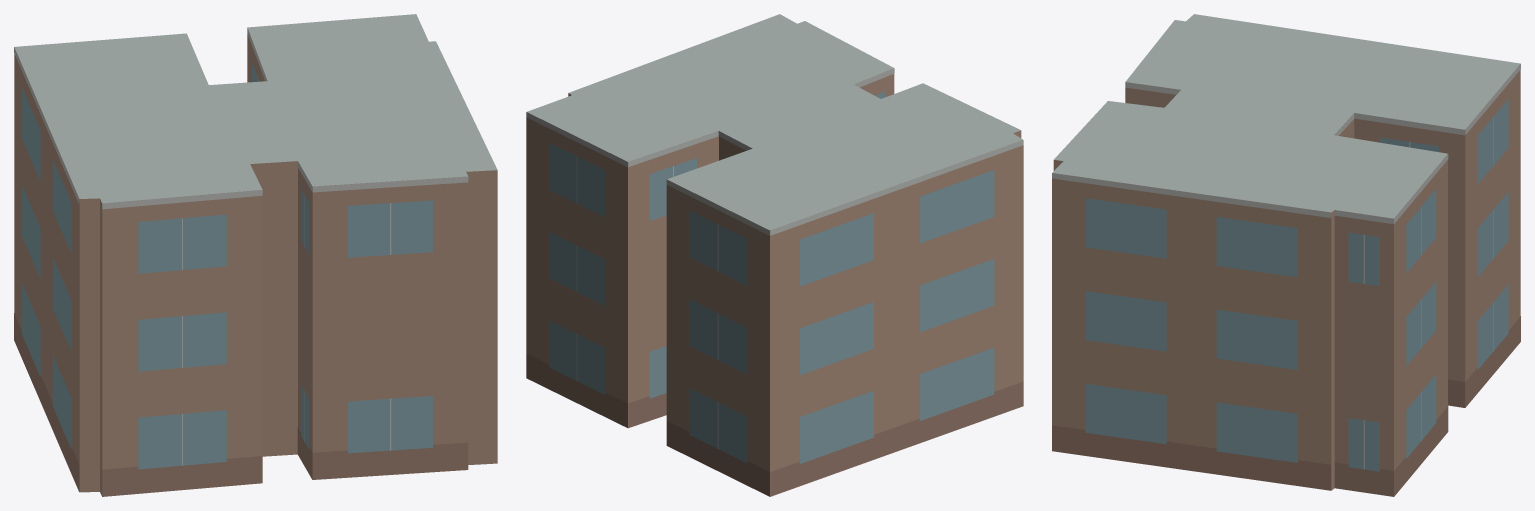
File: survey-upis-33019078.glb
The picture shows the model from 3 angles, left to right: view 1: azimuth 30°, elevation 25°; view 2: azimuth 150°, elevation 25°; view 3: azimuth 270°, elevation 25°; orthographic projection. The views are drawn at different scales.
Visible parts, largest first — view 1: survey-upis-33019078.tmp; view 2: survey-upis-33019078.tmp; view 3: survey-upis-33019078.tmp.
Boxes of the visible parts, x1,y1,x2,y2 form: survey-upis-33019078.tmp: (14,14,497,496); survey-upis-33019078.tmp: (526,14,1023,496); survey-upis-33019078.tmp: (1052,14,1520,496).
Size of the model in its own units: 19.09 by 12.1 by 18.48.
